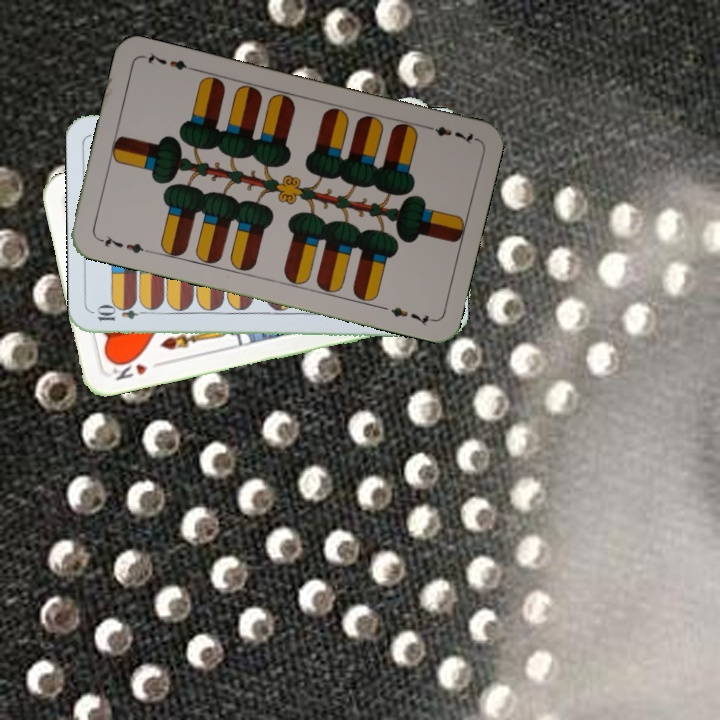E10: (93, 305, 152, 324)
E7: (94, 231, 152, 257), (420, 121, 478, 147)
HK: (108, 353, 150, 383)
